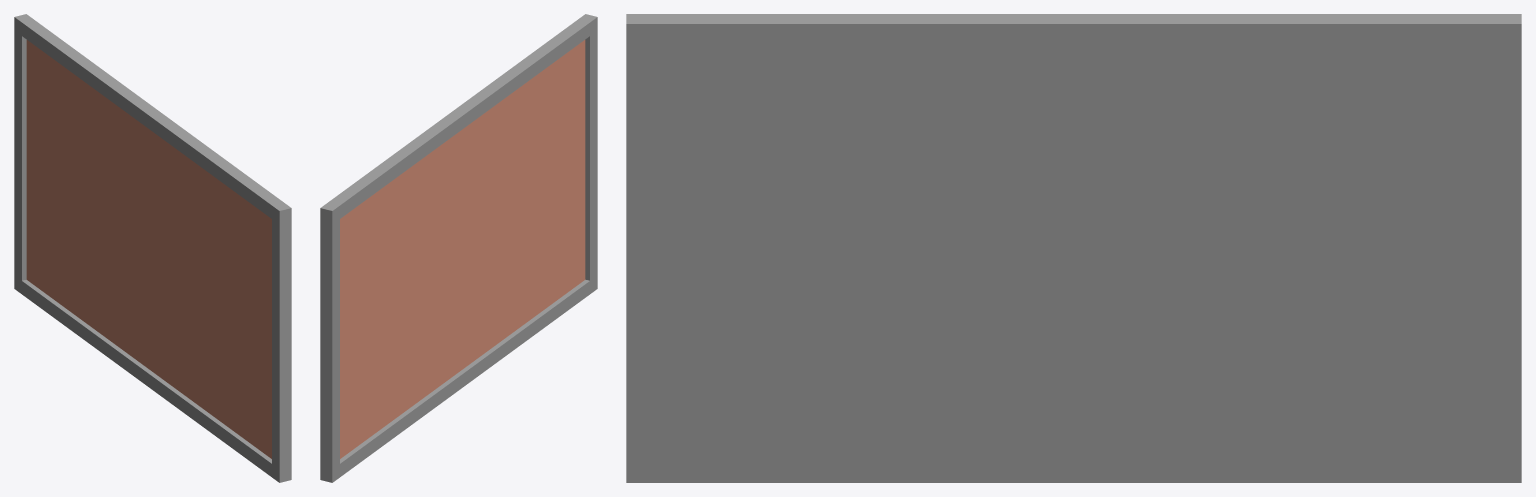
The model's file is Board.fbx.
3 views of the same model, side by side, from view 1: azimuth 30°, elevation 25°; view 2: azimuth 150°, elevation 25°; view 3: azimuth 270°, elevation 25° (orthographic). The views are drawn at different scales.
Visible parts, largest first — view 1: Board; view 2: Board; view 3: Board.
Part boxes in pixels (x1=…): Board: x1=14, y1=14, x2=291, y2=482; Board: x1=320, y1=14, x2=597, y2=482; Board: x1=626, y1=14, x2=1521, y2=482.
Bounding box in the file's own units: 0.0528 × 1.13 × 2.
